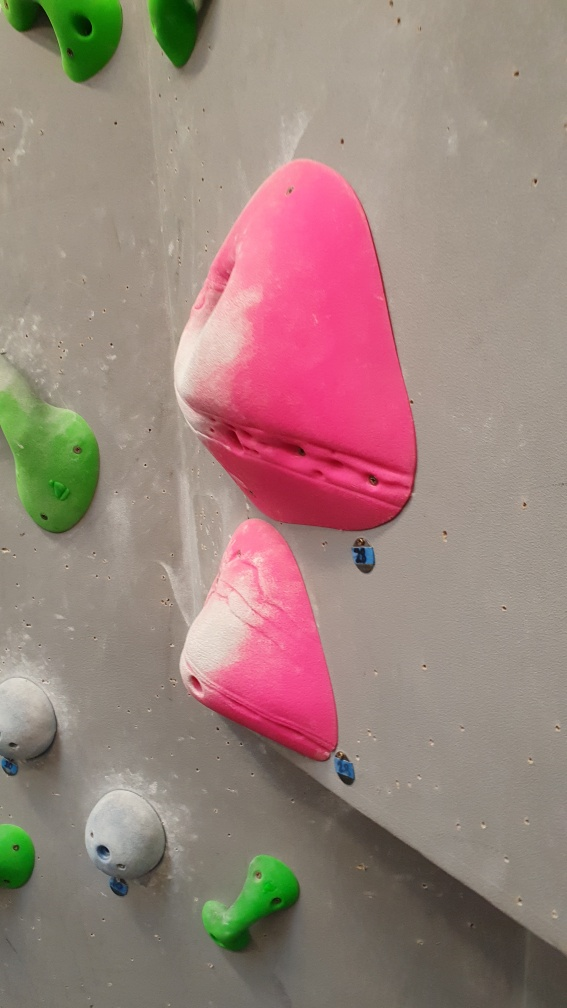Hand Start: (346, 536, 384, 579), (331, 749, 361, 793), (109, 876, 135, 901), (1, 752, 26, 778)
Pocket: (167, 151, 425, 531)
Sloper: (79, 788, 169, 880), (1, 676, 64, 762)
